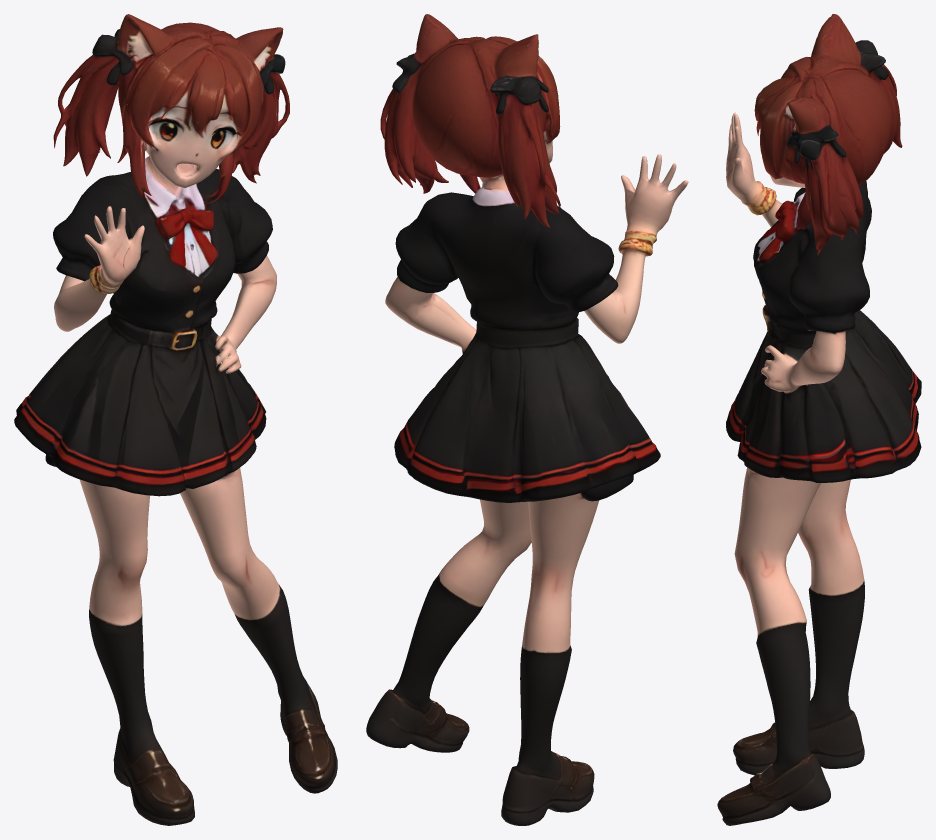
The model's file is base_basic_pbr.glb.
The picture shows the model from 3 angles, left to right: view 1: azimuth 30°, elevation 25°; view 2: azimuth 150°, elevation 25°; view 3: azimuth 270°, elevation 25°; orthographic projection. The views are drawn at different scales.
Parts seen in each view (by area): view 1: model; view 2: model; view 3: model.
Boxes of the visible parts, x1,y1,x2,y2 form: model: [14, 14, 337, 825]; model: [366, 14, 688, 825]; model: [717, 14, 921, 825].
Bounding box in the file's own units: 0.6932 × 1.89 × 0.4659.
Materials: 1 (1 with a texture image).
